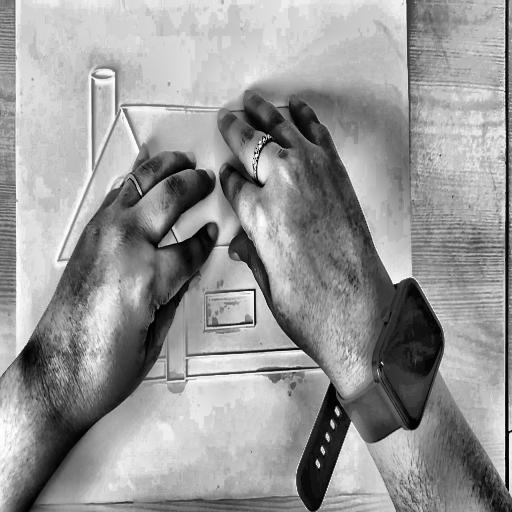bottom_left: (12, 491, 23, 512)
bottom_right: (416, 479, 429, 502)
house: (43, 45, 370, 407)
